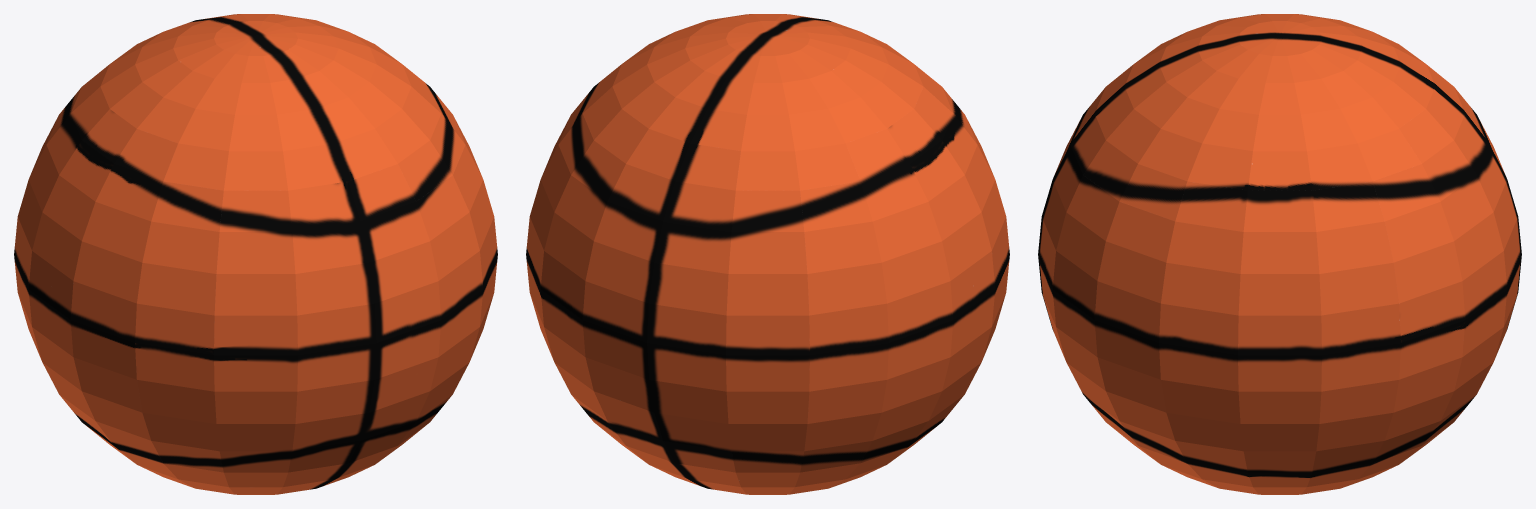
Rendered from PelotaBasquet.fbx.
The picture shows the model from 3 angles, left to right: view 1: azimuth 30°, elevation 25°; view 2: azimuth 150°, elevation 25°; view 3: azimuth 270°, elevation 25°; orthographic projection.
Parts seen in each view (by area): view 1: Pelota; view 2: Pelota; view 3: Pelota.
Boxes of the visible parts, x1,y1,x2,y2 form: Pelota: (14,14,497,494); Pelota: (526,14,1009,494); Pelota: (1038,14,1521,494).
Size of the model in its own units: 22.34 by 22.68 by 22.68.
Materials: 1 (1 with a texture image).
